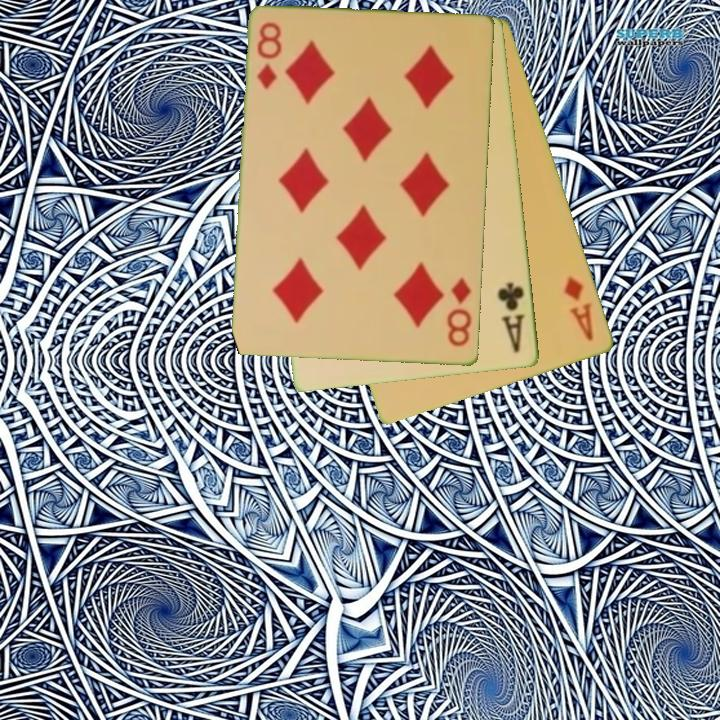8d: (253, 19, 285, 93), (444, 274, 475, 349)
Ac: (494, 279, 529, 356)
Ad: (560, 273, 597, 345)
